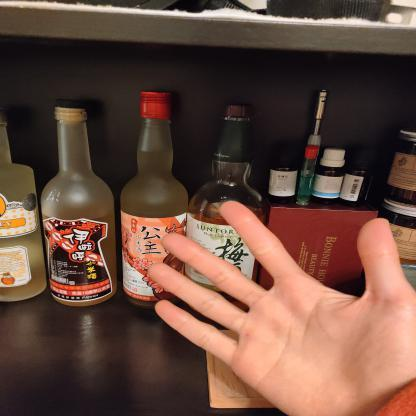bare_hand: (135, 184, 416, 416)
